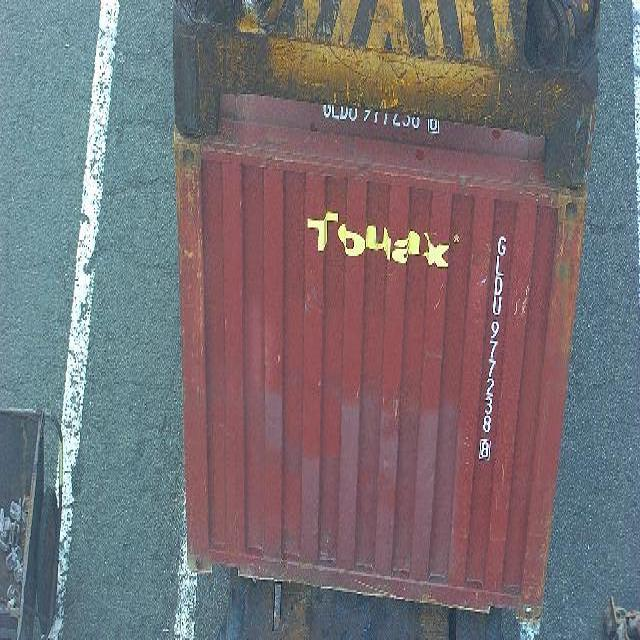container_number: (478, 215, 514, 469)
